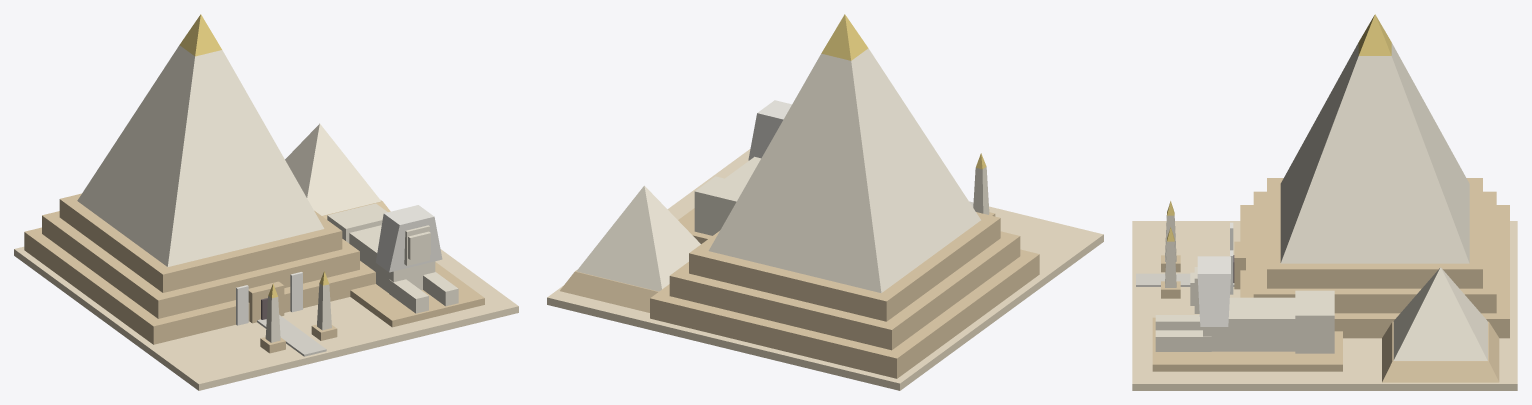
3 views of the same model, side by side, from view 1: azimuth 30°, elevation 25°; view 2: azimuth 150°, elevation 25°; view 3: azimuth 270°, elevation 25° (orthographic). The views are drawn at different scales.
Parts seen in each view (by area): view 1: wonder_pyramid; view 2: wonder_pyramid; view 3: wonder_pyramid.
Boxes of the visible parts, x1,y1,x2,y2 form: wonder_pyramid: (14, 14, 518, 390); wonder_pyramid: (547, 14, 1103, 390); wonder_pyramid: (1132, 14, 1517, 390).
Size of the model in its own units: 1 by 0.785 by 1.
